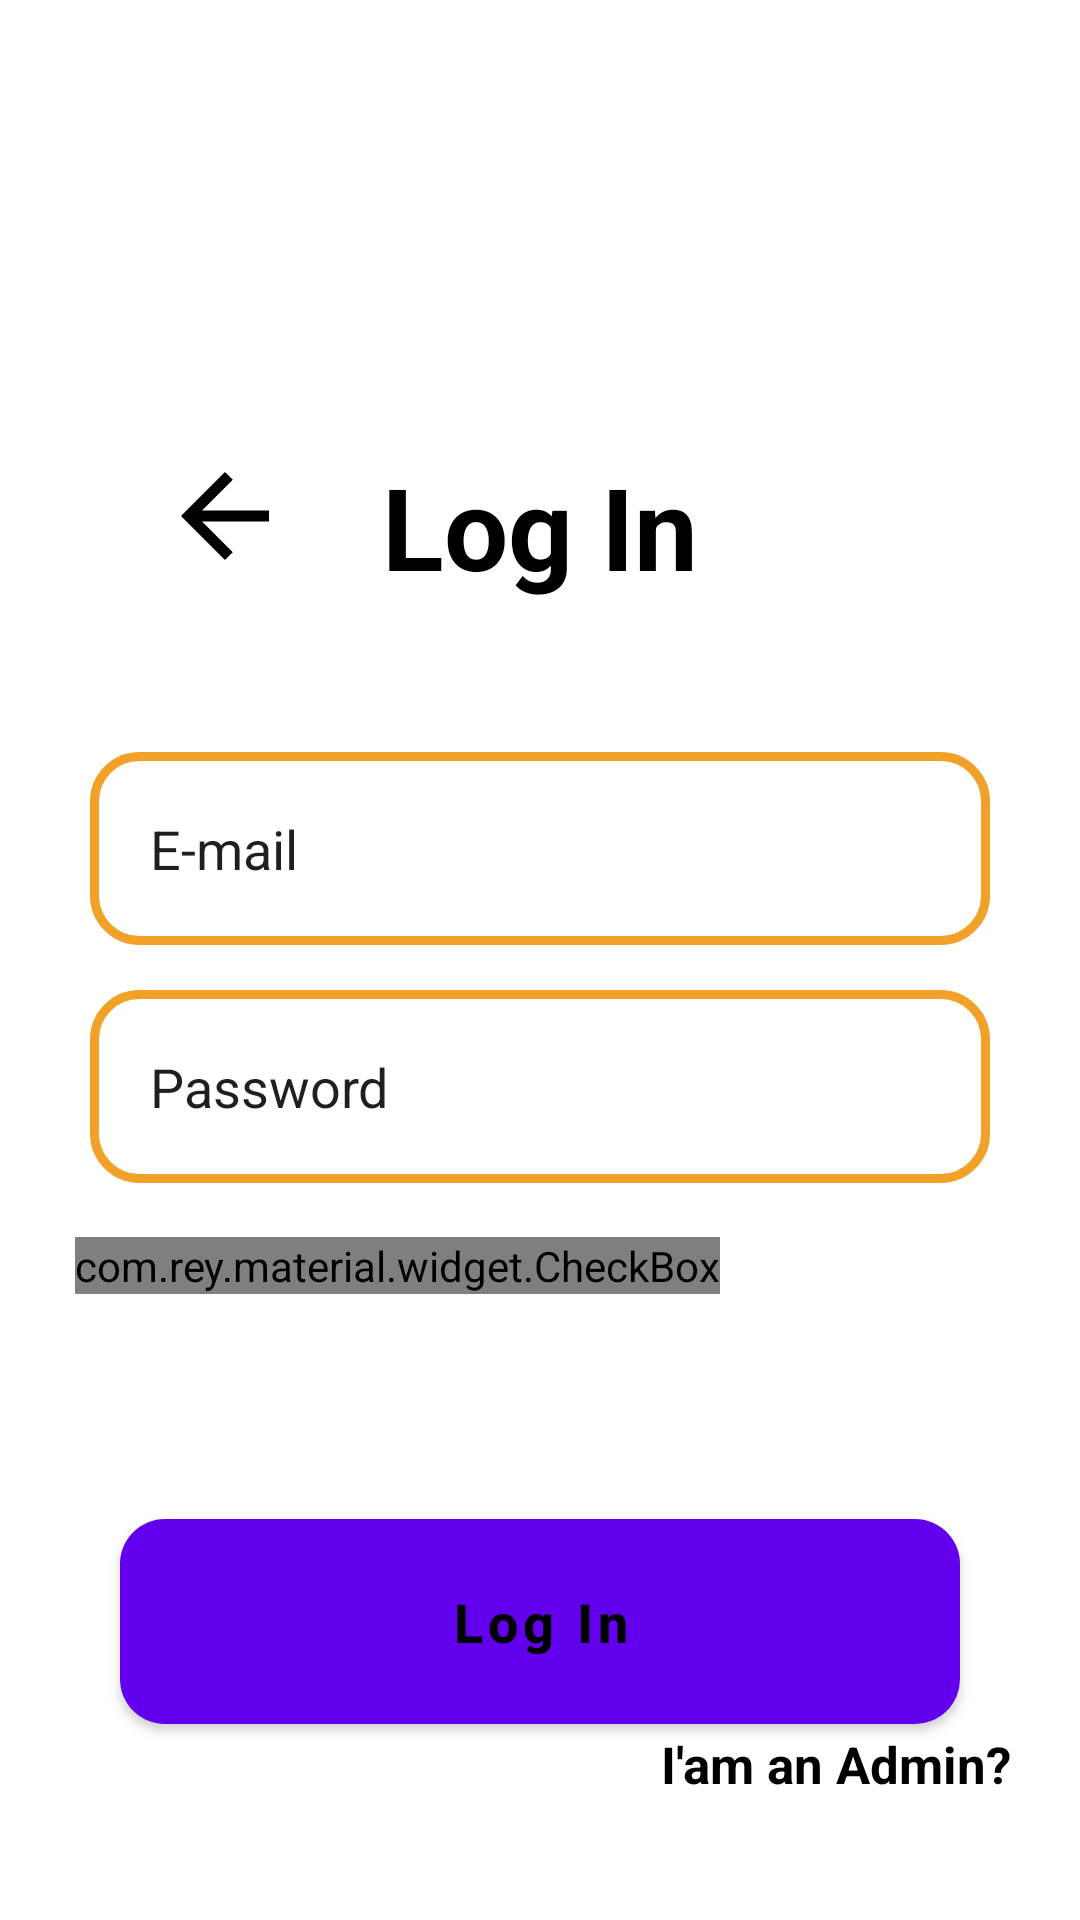

Named icons in this screenshot (1080×1920) and their bounding boxes, {"left": x1, "top": y1, "right": x2, "bottom": y2}:
back: {"left": 181, "top": 472, "right": 269, "bottom": 560}
